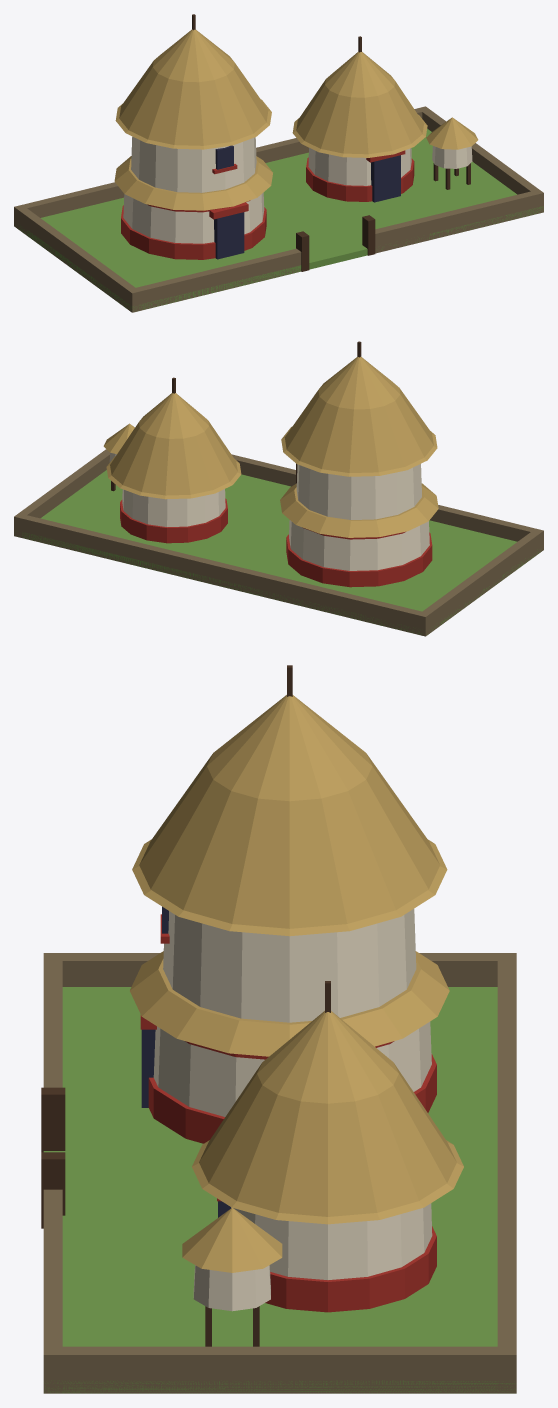
Rendered from house-2x1-2f-rondavel-a.glb.
3 views of the same model, one above another, from view 1: azimuth 30°, elevation 25°; view 2: azimuth 150°, elevation 25°; view 3: azimuth 270°, elevation 25° (orthographic). The views are drawn at different scales.
Parts seen in each view (by area): view 1: house-2x1-2f-rondavel-a; view 2: house-2x1-2f-rondavel-a; view 3: house-2x1-2f-rondavel-a.
Boxes of the visible parts, <box> form: house-2x1-2f-rondavel-a: <box>14,14,543,312</box>; house-2x1-2f-rondavel-a: <box>14,341,543,636</box>; house-2x1-2f-rondavel-a: <box>41,665,516,1393</box>.
Bounding box in the file's own units: 1.99 × 1.03 × 0.995.
Materials: 1 (1 with a texture image).
